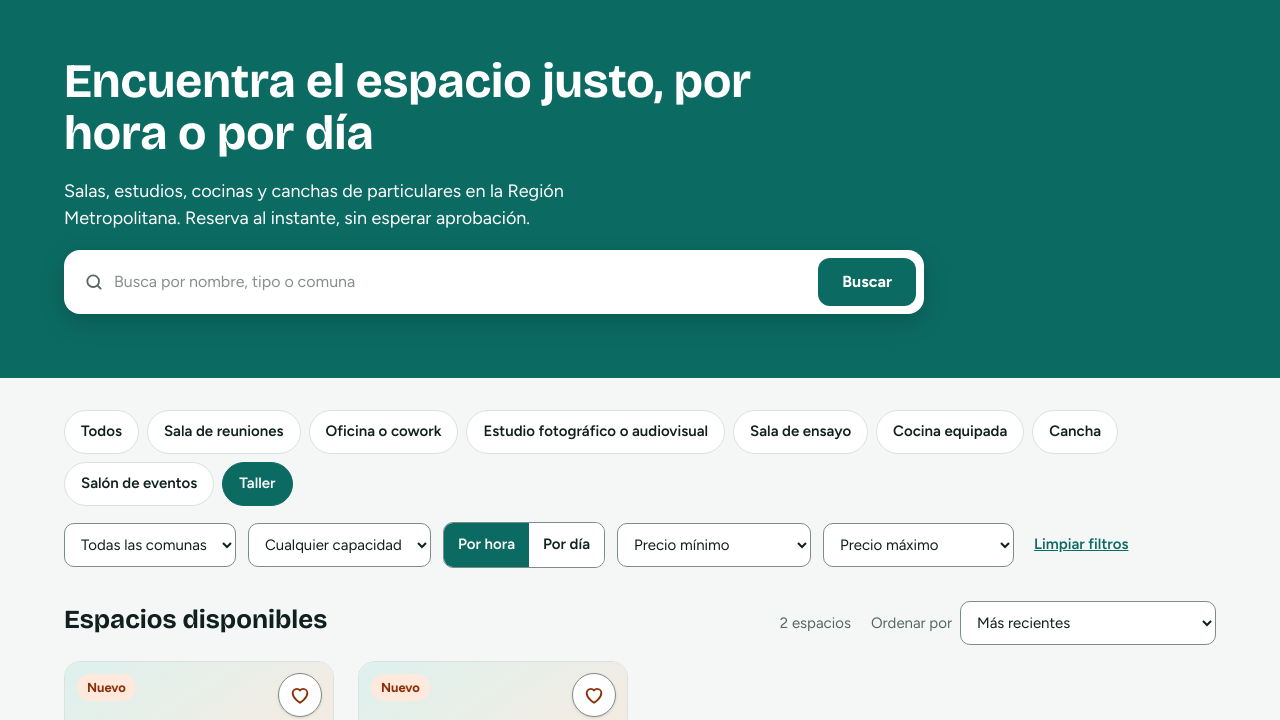
CatalogPage: filtros y búsqueda (BU-03) › tipo › "Todos" quita el filtro de tipo
The image size is (1280, 720).
Check: the button "Taller" is shown, box [222,462,292,506]
Check: the text "2 espacios" is shown, box [780,612,851,634]
What coordinates should you click on to do the following:
click the button "Todos"
I would click on:
 (101, 432)
Its box is [64,410,139,454].
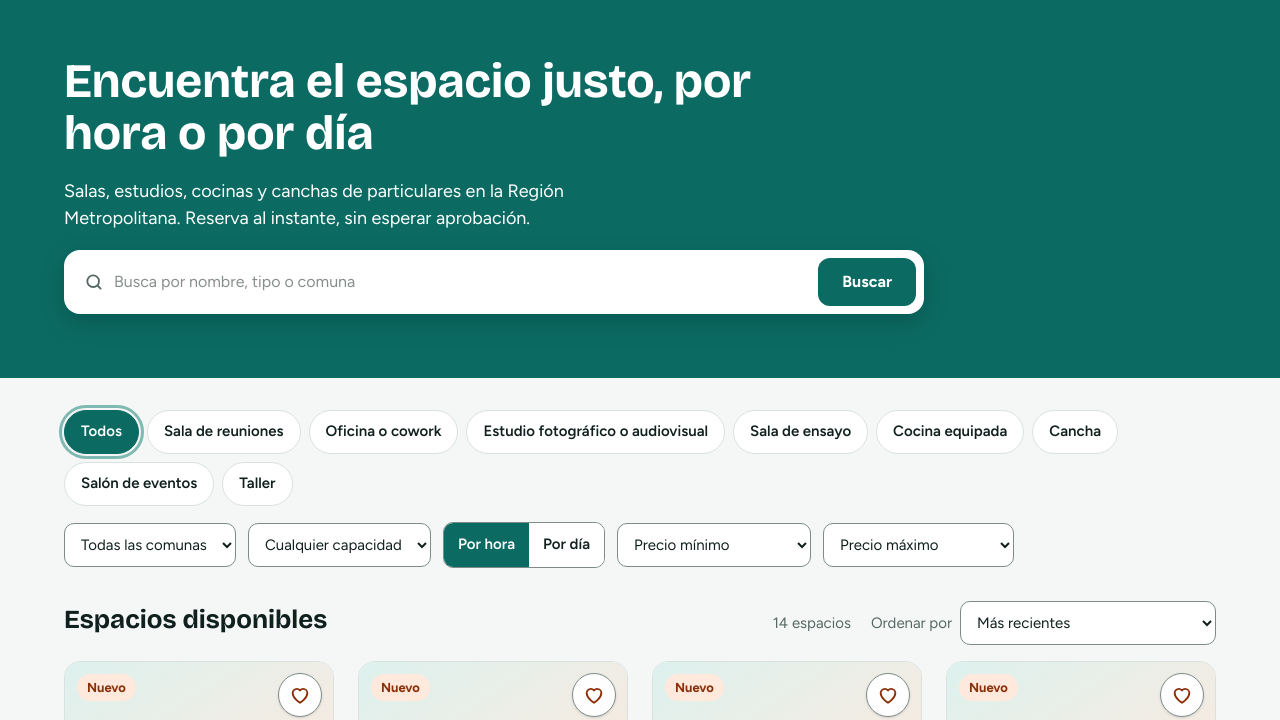
Check: the text "14 espacios" is shown, box [773,612,851,634]
